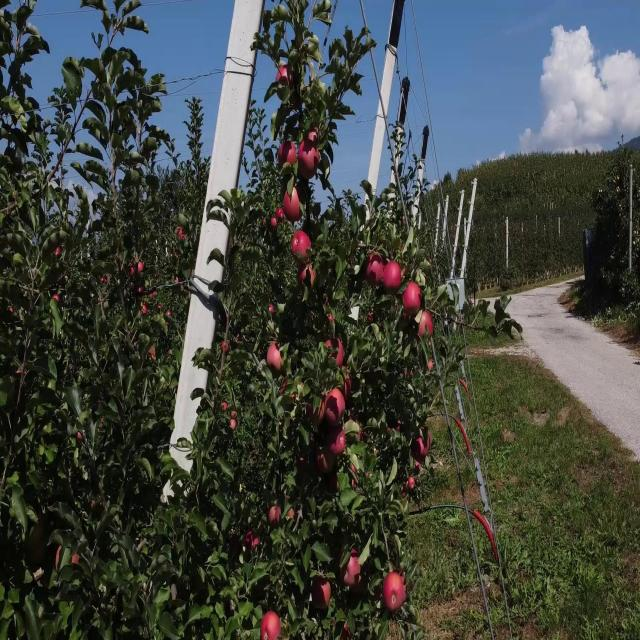apple: (384, 575, 407, 612), (312, 575, 332, 610), (404, 284, 422, 318), (276, 63, 293, 98), (328, 391, 345, 425), (368, 255, 384, 290), (384, 263, 402, 292), (268, 341, 284, 372), (332, 426, 348, 457), (308, 398, 325, 427), (300, 149, 315, 180), (328, 341, 344, 370), (296, 234, 312, 263), (284, 191, 300, 219), (264, 611, 280, 638), (348, 554, 361, 587), (420, 312, 435, 340), (344, 561, 360, 587), (300, 142, 312, 176), (416, 433, 432, 455), (420, 426, 432, 455), (268, 504, 281, 526), (288, 199, 301, 220), (308, 127, 320, 149), (349, 426, 364, 443), (280, 142, 290, 167), (288, 142, 299, 164), (300, 142, 311, 162), (296, 462, 308, 480), (304, 270, 316, 288), (320, 455, 331, 473), (36, 540, 45, 562), (344, 376, 352, 400), (324, 455, 334, 473), (312, 149, 320, 171), (412, 440, 422, 457), (284, 618, 292, 638), (340, 563, 348, 583), (56, 547, 63, 569), (308, 270, 316, 288), (276, 206, 285, 222), (300, 270, 308, 288), (244, 533, 253, 549), (276, 206, 285, 222), (404, 369, 415, 382), (288, 504, 296, 521), (72, 554, 80, 569), (408, 476, 416, 491), (52, 291, 60, 306), (333, 476, 340, 492), (352, 469, 357, 491), (344, 625, 352, 638), (268, 220, 279, 228), (232, 419, 237, 432), (56, 248, 63, 256), (416, 462, 422, 469), (265, 222, 267, 228)
